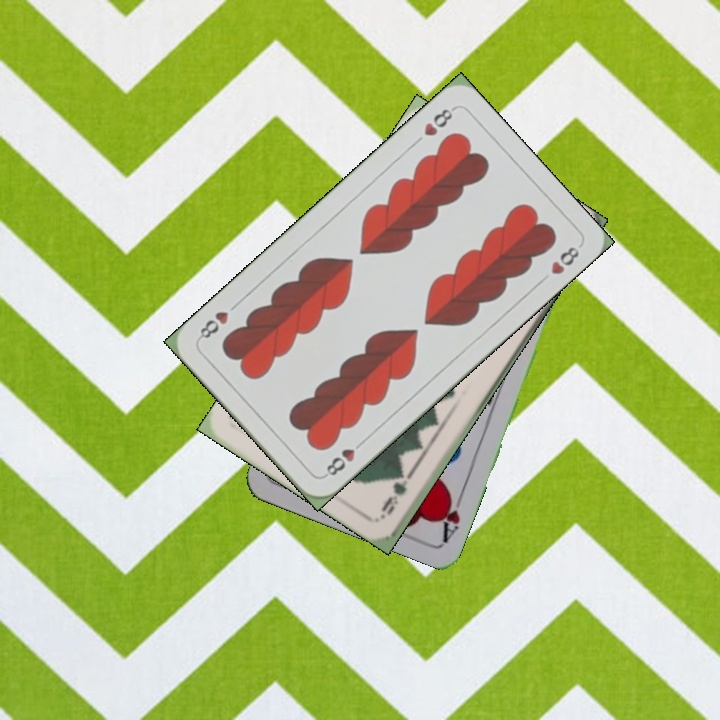G9: (377, 467, 416, 520)
H8: (320, 435, 368, 480), (419, 103, 458, 139)
HA: (435, 487, 467, 544)
